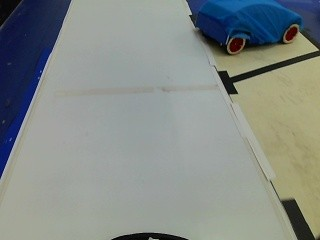car: (193, 0, 307, 55)
